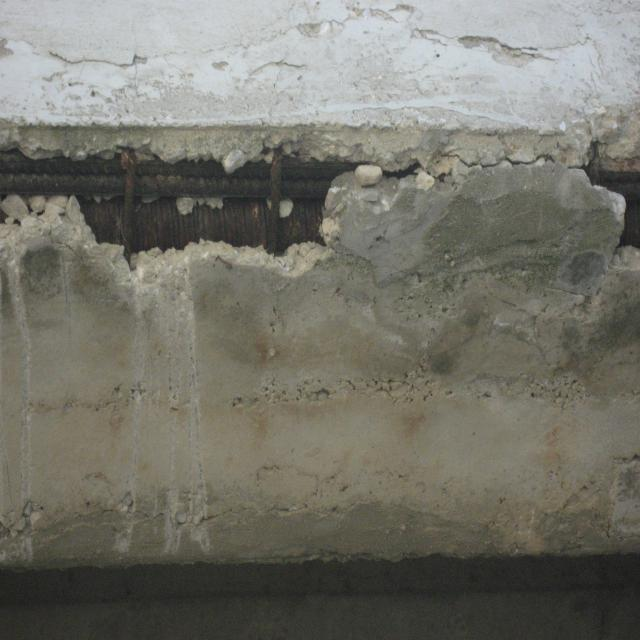corrosion: (0, 113, 357, 255), (569, 142, 640, 259)
